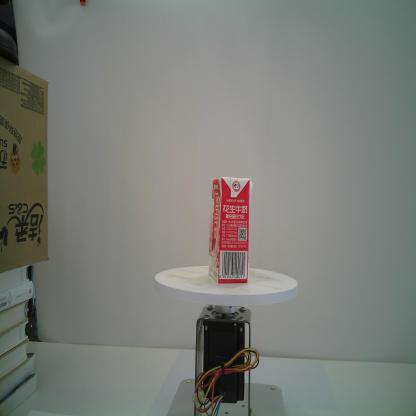Milk: (205, 176, 254, 284)
